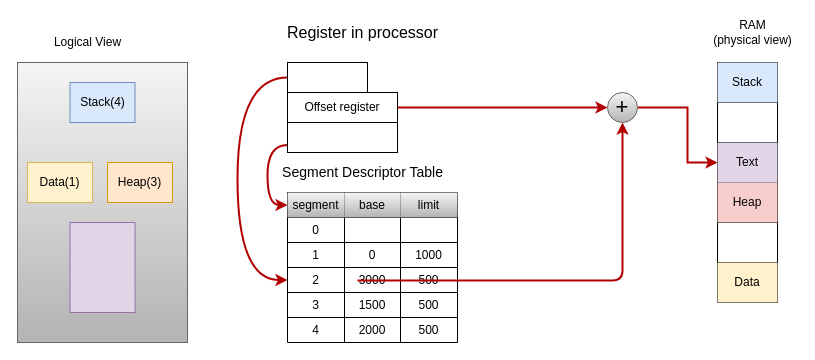
The diagram is 815 pixels wide and 360 high, and some of its shapes have lost their labels. The box of each missing label's shape, as (x1, y1, x2, y2) in pixels:
Ptr to Descriptor table: (286, 122, 398, 152)
Segment Selector: (286, 62, 368, 92)
Text(2): (69, 222, 135, 312)
